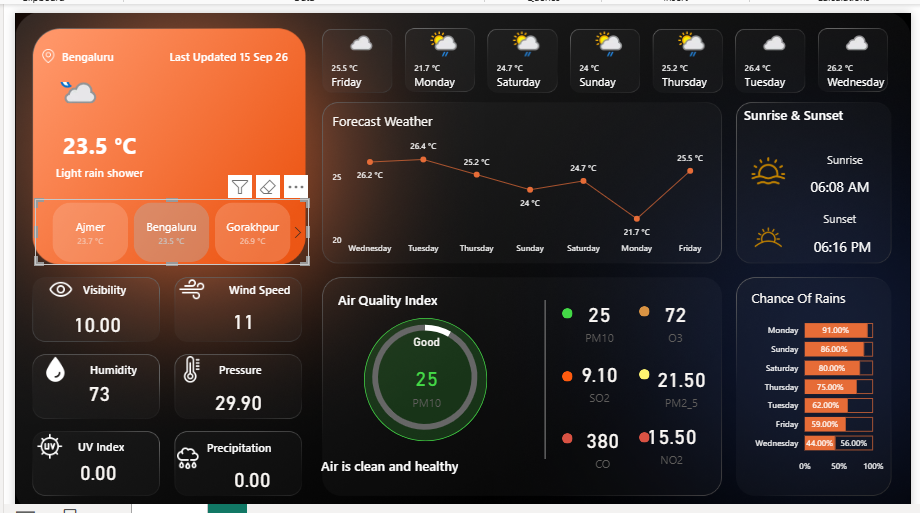

What the dashboard file says about the page in this screenshot:
{"tool":"powerbi","page":{"name":"Page 1","canvas":[1280,720],"ordinal":0},"visuals":[{"type":"shape","box":[498.7,435.4,176,176],"z":0},{"type":"advancedSlicerVisual","fields":{"Values":["Location.location.name"]},"box":[28.3,265,391.7,95],"z":1000},{"type":"shape","box":[28.3,146.7,185,80],"z":2000},{"type":"shape","box":[28.3,206.7,185,40],"z":3000},{"type":"shape","box":[66.7,41.7,135,40],"z":4000},{"type":"shape","box":[213.3,41.7,185,40],"z":5000},{"type":"image","box":[28.3,51.7,38.3,20],"z":6000},{"type":"cardVisual","fields":{"Data":["Min(current.current.condition.icon)"]},"box":[28.7,81.9,383,65.5],"z":7000},{"type":"image","box":[41.1,375.4,48.3,37.5],"z":8000},{"type":"shape","box":[96.5,359.3,105.5,69.7],"z":9000},{"type":"shape","box":[107.3,473.7,105.5,69.7],"z":10000},{"type":"image","box":[25,489.8,64.4,37.5],"z":11000},{"type":"shape","box":[305.7,359.3,105.5,69.7],"z":12000},{"type":"image","box":[228.8,375.4,48.3,37.5],"z":13000},{"type":"shape","box":[89.4,584.6,105.5,69.7],"z":14000},{"type":"shape","box":[274.6,585.6,105.5,69.7],"z":15000},{"type":"shape","box":[291.4,473.7,105.5,69.7],"z":16000},{"type":"image","box":[228.8,489.8,48.3,37.5],"z":17000},{"type":"image","box":[25,600.7,48.3,37.5],"z":18000},{"type":"image","box":[223.5,616.8,48.3,37.5],"z":19000},{"type":"card","fields":{"Values":["Sum(current.current.humidity)"]},"box":[78.7,513.1,84,59],"z":20000},{"type":"card","fields":{"Values":["Sum(current.current.pressure_in)"]},"box":[277.1,525.6,84,59],"z":21000},{"type":"card","fields":{"Values":["Sum(current.current.wind_kph)"]},"box":[284.7,411.6,84,57.3],"z":22000},{"type":"card","fields":{"Values":["Sum(current.current.uv)"]},"box":[77.8,626.7,84,57.3],"z":23000},{"type":"card","fields":{"Values":["Sum(current.current.vis_km)"]},"box":[75.8,415.7,84,57.3],"z":24000},{"type":"card","fields":{"Values":["Sum(current.current.precip_in)"]},"box":[297,636.9,84,57.3],"z":25000},{"type":"advancedSlicerVisual","fields":{"Values":["Forecast_Day.Day_Name"]},"box":[434.2,14.3,831.5,112.6],"z":26000},{"type":"lineChart","title":"Forecast Weather","fields":{"Category":["Forecast_Day.Day_Name"],"Y":["Sum(Forecast_Day.forecast.forecastday.day.avgtemp_c)"]},"box":[449.3,141.1,551.5,213.1],"z":27000},{"type":"shape","box":[1041.1,126.7,155.5,37.4],"z":28000},{"type":"shape","box":[1104.5,221.8,148.3,51.8],"z":29000},{"type":"shape","box":[1111.7,273.6,133.9,38.9],"z":30000},{"type":"shape","box":[1118.9,193,133.9,33.1],"z":31000},{"type":"shape","box":[1111.7,312.5,141.1,41.8],"z":32000},{"type":"image","box":[1046.9,201.6,57.6,47.5],"z":33000},{"type":"image","box":[1046.9,293.8,57.6,51.8],"z":34000},{"type":"hundredPercentStackedBarChart","title":"Chance Of Rains","fields":{"Y":["Sum(Forecast_Day.forecast.forecastday.day.daily_chance_of_rain)","_Measures.Left_Value_Rain"],"Category":["Forecast_Day.Day_Name"]},"box":[1046.9,394.6,198.7,270.7],"z":35000},{"type":"shape","box":[460.8,391.7,155.5,37.4],"z":36000},{"type":"card","fields":{"Values":["Sum(current.current.air_quality.pm10)"]},"box":[797.4,399.9,75.7,78.7],"z":37000},{"type":"card","fields":{"Values":["Sum(current.current.air_quality.o3)"]},"box":[905.5,399.9,75.7,78.7],"z":38000},{"type":"card","fields":{"Values":["Sum(current.current.air_quality.so2)"]},"box":[796.7,486.4,75.7,78.7],"z":39000},{"type":"card","fields":{"Values":["Sum(current.current.air_quality.co)"]},"box":[796.7,580.6,84.9,78.7],"z":40000},{"type":"card","fields":{"Values":["Sum(current.current.air_quality.pm2_5)"]},"box":[904.8,492.5,95.7,78.7],"z":41000},{"type":"card","fields":{"Values":["Sum(current.current.air_quality.no2)"]},"box":[895.5,574.4,84.9,78.7],"z":42000},{"type":"shape","box":[781.3,421.5,15.4,15.4],"z":43000},{"type":"shape","box":[781.3,600.6,15.4,15.4],"z":44000},{"type":"shape","box":[781.3,511.1,15.4,15.4],"z":45000},{"type":"shape","box":[891.6,419.2,15.4,15.4],"z":46000},{"type":"shape","box":[891.6,598.3,15.4,15.4],"z":47000},{"type":"shape","box":[891.6,508.7,15.4,15.4],"z":48000},{"type":"shape","box":[725.7,410.7,63.3,227],"z":49000},{"type":"card","fields":{"Values":["Sum(current.current.air_quality.pm10)"]},"box":[535.8,460.1,105,125.1],"z":50000},{"type":"donutChart","fields":{"Y":["Sum(current.current.air_quality.pm10)","_Measures.Left_Value_PM10"]},"box":[446.2,421.5,279.5,197.6],"z":51000},{"type":"shape","box":[437,628.4,307.3,37.1],"z":52000}]}

Visuals, with their boxes on the page's 1280x720 design canvas (x1, y1, x2, y2). These are canvas units, not pixel positions in the 920x513 screenshot, which may show the page scaled, cropped or inside an application window:
shape: <region>499, 435, 675, 611</region>
advancedSlicerVisual - Location.location.name: <region>28, 265, 420, 360</region>
shape: <region>28, 147, 213, 227</region>
shape: <region>28, 207, 213, 247</region>
shape: <region>67, 42, 202, 82</region>
shape: <region>213, 42, 398, 82</region>
image: <region>28, 52, 67, 72</region>
cardVisual - Min(current.current.condition.icon): <region>29, 82, 412, 147</region>
image: <region>41, 375, 89, 413</region>
shape: <region>96, 359, 202, 429</region>
shape: <region>107, 474, 213, 543</region>
image: <region>25, 490, 89, 527</region>
shape: <region>306, 359, 411, 429</region>
image: <region>229, 375, 277, 413</region>
shape: <region>89, 585, 195, 654</region>
shape: <region>275, 586, 380, 655</region>
shape: <region>291, 474, 397, 543</region>
image: <region>229, 490, 277, 527</region>
image: <region>25, 601, 73, 638</region>
image: <region>224, 617, 272, 654</region>
card - Sum(current.current.humidity): <region>79, 513, 163, 572</region>
card - Sum(current.current.pressure_in): <region>277, 526, 361, 585</region>
card - Sum(current.current.wind_kph): <region>285, 412, 369, 469</region>
card - Sum(current.current.uv): <region>78, 627, 162, 684</region>
card - Sum(current.current.vis_km): <region>76, 416, 160, 473</region>
card - Sum(current.current.precip_in): <region>297, 637, 381, 694</region>
advancedSlicerVisual - Forecast_Day.Day_Name: <region>434, 14, 1266, 127</region>
"Forecast Weather" lineChart: <region>449, 141, 1001, 354</region>
shape: <region>1041, 127, 1197, 164</region>
shape: <region>1104, 222, 1253, 274</region>
shape: <region>1112, 274, 1246, 312</region>
shape: <region>1119, 193, 1253, 226</region>
shape: <region>1112, 312, 1253, 354</region>
image: <region>1047, 202, 1104, 249</region>
image: <region>1047, 294, 1104, 346</region>
"Chance Of Rains" hundredPercentStackedBarChart: <region>1047, 395, 1246, 665</region>
shape: <region>461, 392, 616, 429</region>
card - Sum(current.current.air_quality.pm10): <region>797, 400, 873, 479</region>
card - Sum(current.current.air_quality.o3): <region>906, 400, 981, 479</region>
card - Sum(current.current.air_quality.so2): <region>797, 486, 872, 565</region>
card - Sum(current.current.air_quality.co): <region>797, 581, 882, 659</region>
card - Sum(current.current.air_quality.pm2_5): <region>905, 492, 1000, 571</region>
card - Sum(current.current.air_quality.no2): <region>896, 574, 980, 653</region>
shape: <region>781, 422, 797, 437</region>
shape: <region>781, 601, 797, 616</region>
shape: <region>781, 511, 797, 526</region>
shape: <region>892, 419, 907, 435</region>
shape: <region>892, 598, 907, 614</region>
shape: <region>892, 509, 907, 524</region>
shape: <region>726, 411, 789, 638</region>
card - Sum(current.current.air_quality.pm10): <region>536, 460, 641, 585</region>
donutChart - Sum(current.current.air_quality.pm10) x _Measures.Left_Value_PM10: <region>446, 422, 726, 619</region>
shape: <region>437, 628, 744, 666</region>
